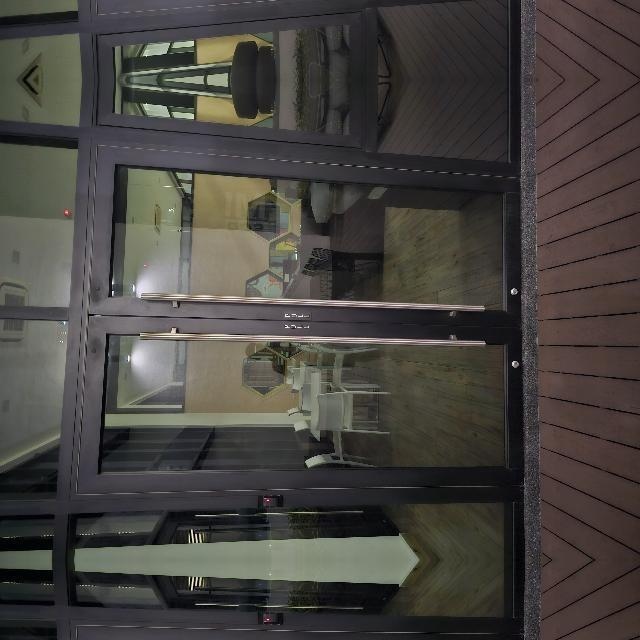door: (32, 128, 430, 612), (32, 508, 430, 640), (32, 0, 430, 31)
